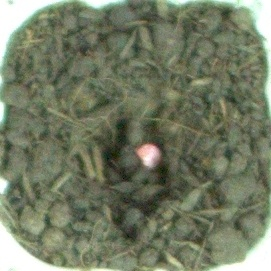chilli seed: (134, 141, 167, 169)
